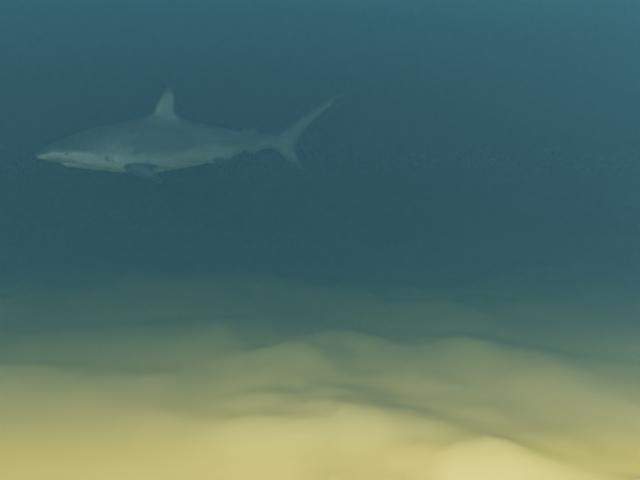Carribean Shark.001: (35, 85, 345, 183)
